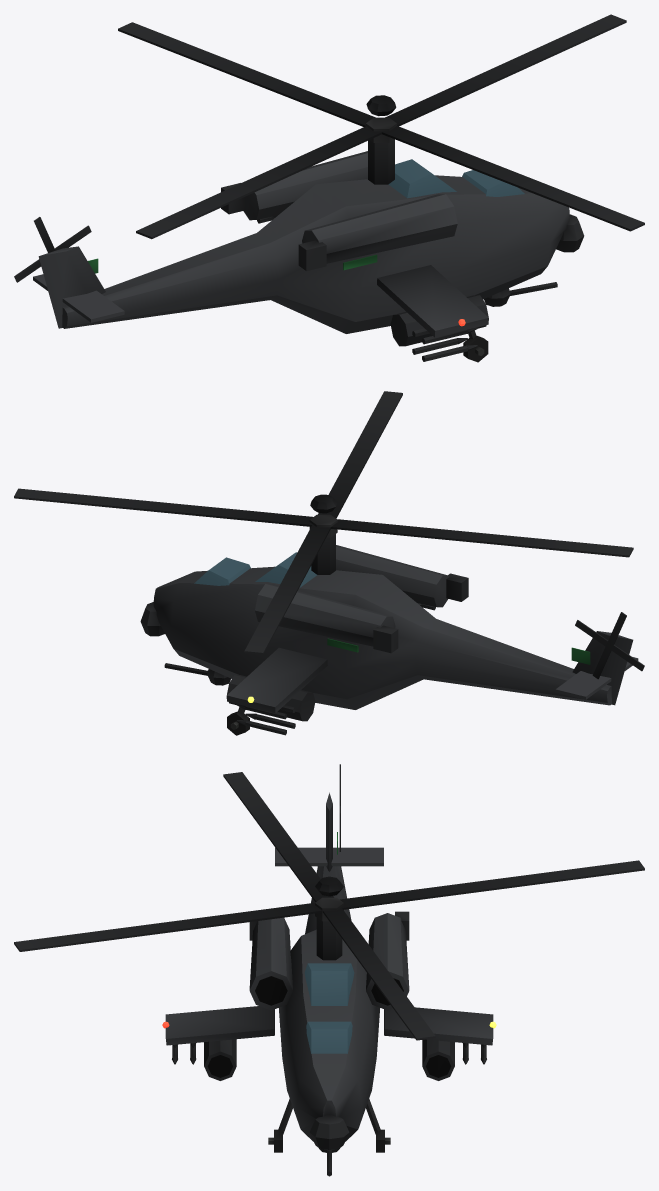
The model's file is u_gunship_lod1.glb.
The picture shows the model from 3 angles, top to bottom: view 1: azimuth 30°, elevation 25°; view 2: azimuth 150°, elevation 25°; view 3: azimuth 270°, elevation 25°; orthographic projection. The views are drawn at different scales.
Parts seen in each view (by area): view 1: Gunship_LOD1_Walls, Gunship_LOD1_rotor, Gunship_LOD1_Details; view 2: Gunship_LOD1_Walls, Gunship_LOD1_rotor, Gunship_LOD1_Details; view 3: Gunship_LOD1_Walls, Gunship_LOD1_rotor, Gunship_LOD1_Details.
Part boxes in pixels (x1,y1,x2,y2): Gunship_LOD1_Walls: (33, 151, 569, 337); Gunship_LOD1_rotor: (118, 14, 644, 239); Gunship_LOD1_Details: (14, 139, 584, 362); Gunship_LOD1_Walls: (153, 545, 638, 713); Gunship_LOD1_rotor: (14, 391, 633, 654); Gunship_LOD1_Details: (140, 534, 644, 735); Gunship_LOD1_Walls: (165, 792, 493, 1141); Gunship_LOD1_rotor: (14, 772, 644, 1040); Gunship_LOD1_Details: (162, 764, 496, 1176).
Size of the model in its own units: 1.94 by 0.739 by 1.74.
